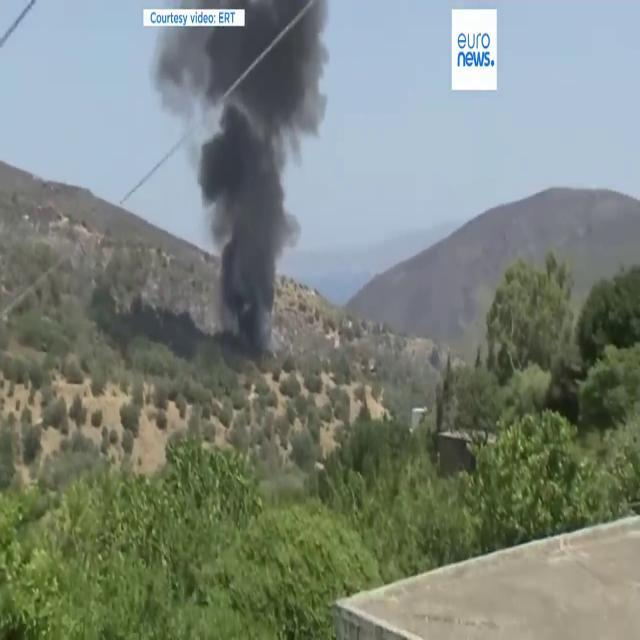Smoke: (177, 0, 337, 335)
